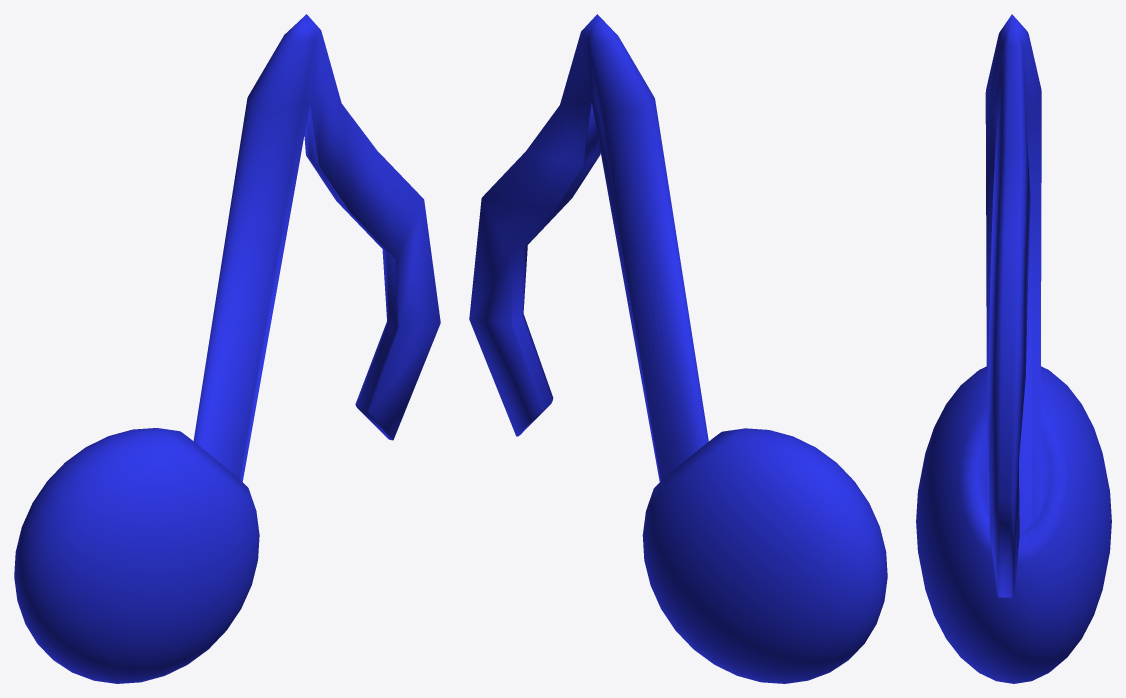
File: Hand_L 1.fbx
The picture shows the model from 3 angles, left to right: view 1: azimuth 30°, elevation 25°; view 2: azimuth 150°, elevation 25°; view 3: azimuth 270°, elevation 25°; orthographic projection. The views are drawn at different scales.
Parts seen in each view (by area): view 1: 球; view 2: 球; view 3: 球.
Boxes of the visible parts, box(x1,y1,x2,y2) form: 球: box(14, 14, 440, 683); 球: box(469, 14, 887, 683); 球: box(916, 14, 1111, 683).
Size of the model in its own units: 19.34 by 27.87 by 6.56.
